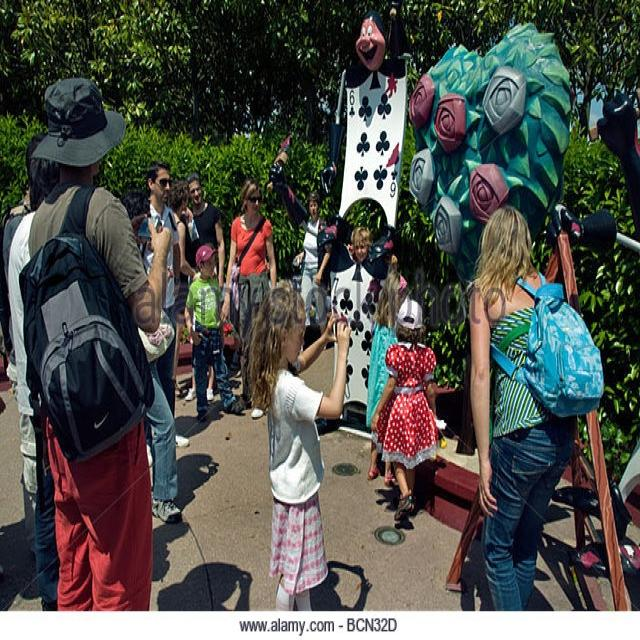body: (14, 69, 175, 639), (465, 200, 607, 638), (0, 377, 252, 612), (243, 279, 354, 613), (5, 134, 58, 597), (460, 476, 639, 611), (132, 158, 193, 473), (368, 295, 442, 526), (218, 176, 279, 422), (2, 125, 53, 377), (183, 243, 246, 421), (364, 266, 411, 488), (136, 308, 183, 526), (181, 172, 225, 402), (166, 178, 197, 400), (290, 188, 332, 328), (284, 558, 374, 613), (375, 479, 422, 528), (345, 224, 378, 275)
